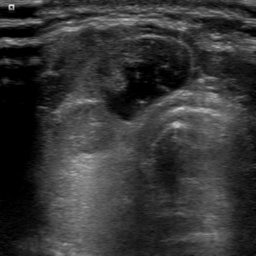mass: (101, 35, 194, 119)
